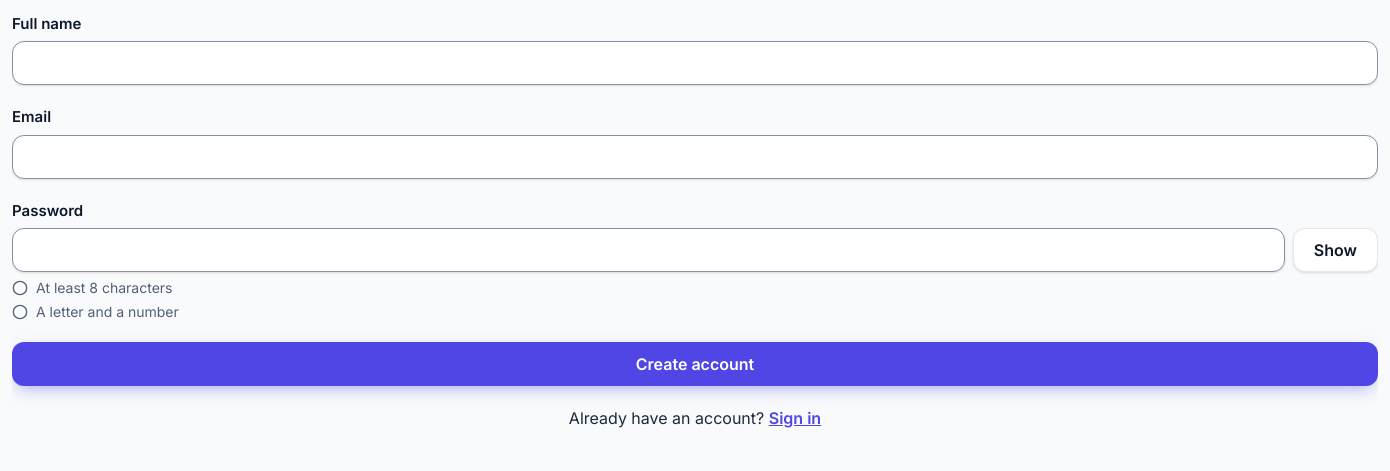
Test: SignUpForm › maps a server PASSWORD_TOO_WEAK to the password field
The width and height of the screenshot is (1390, 471).
In the field with test id "signup-fullname-input": (695, 63) [12,41,1378,85], type "Maya"
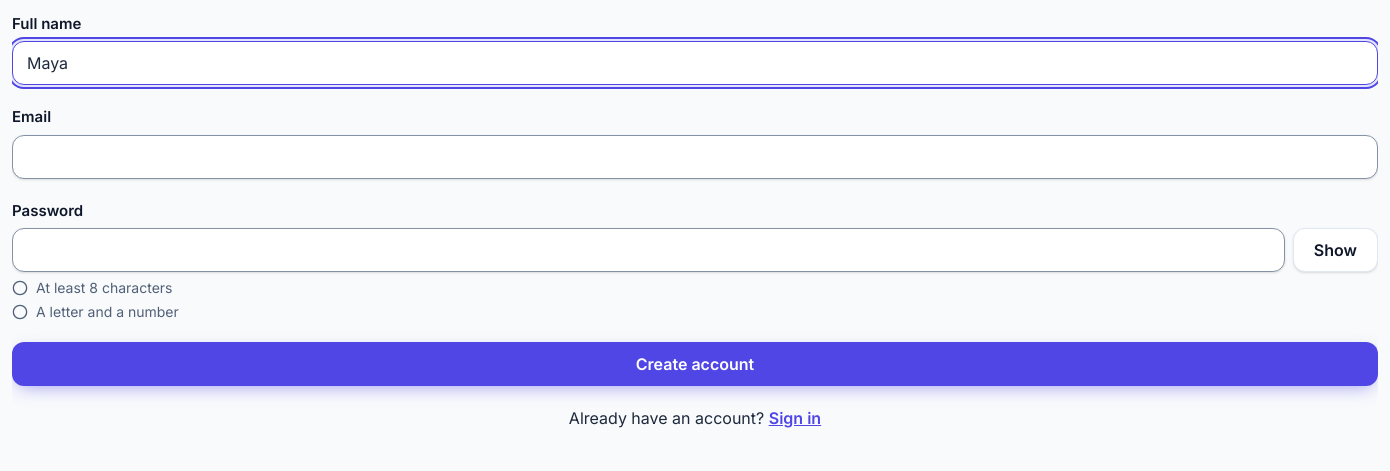
In the field with test id "signup-email-input": (695, 156) [12,134,1378,178], type "maya@example.test"
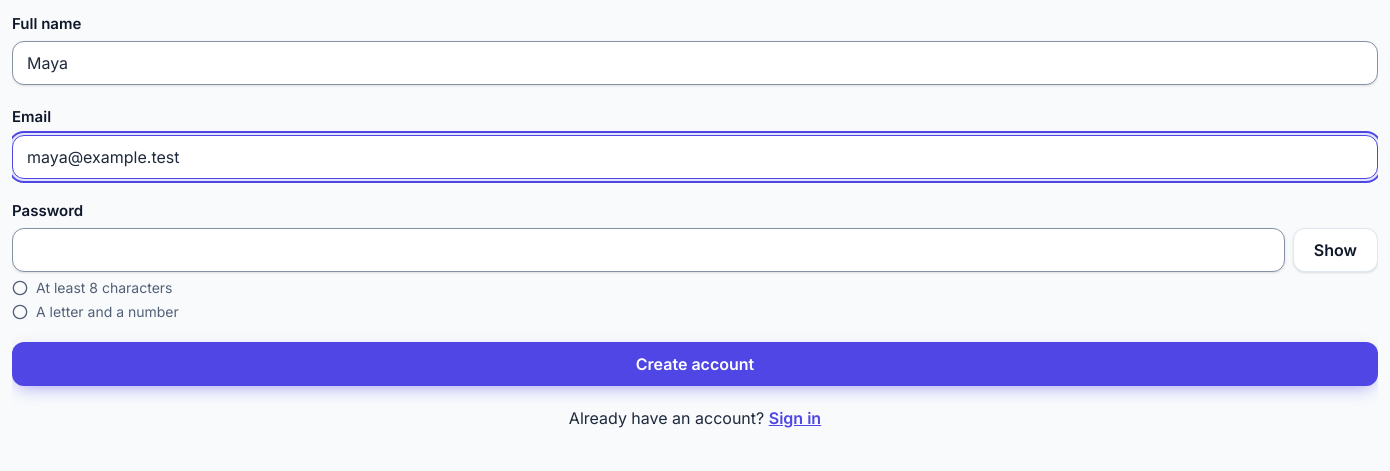
In the password field with test id "signup-password-input": (648, 250) [12,228,1285,272], type "Password1"
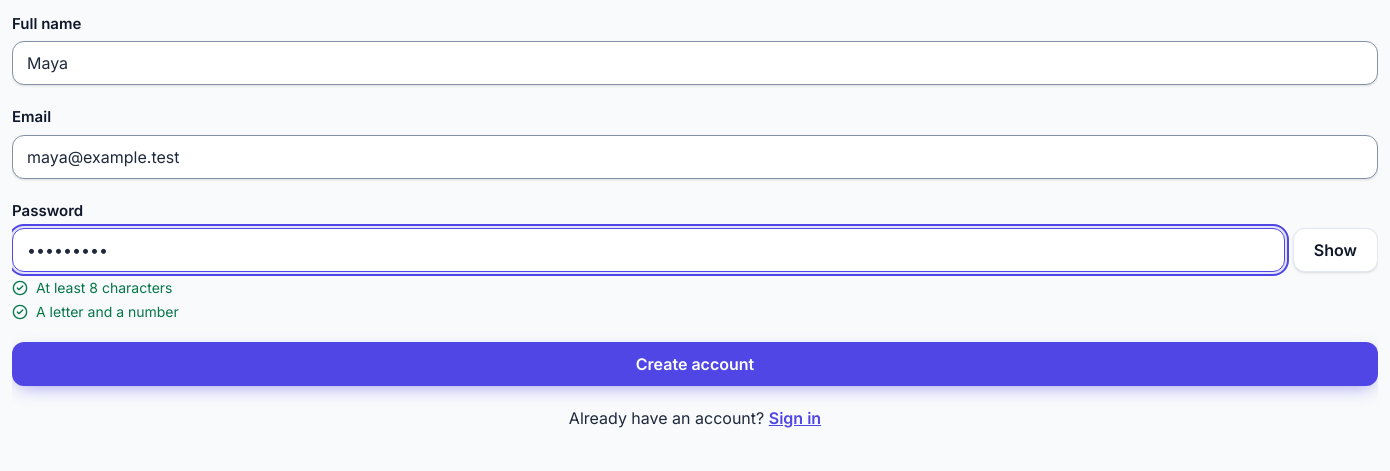
Click the button with test id "signup-submit-button": (695, 364) [12,342,1378,386]
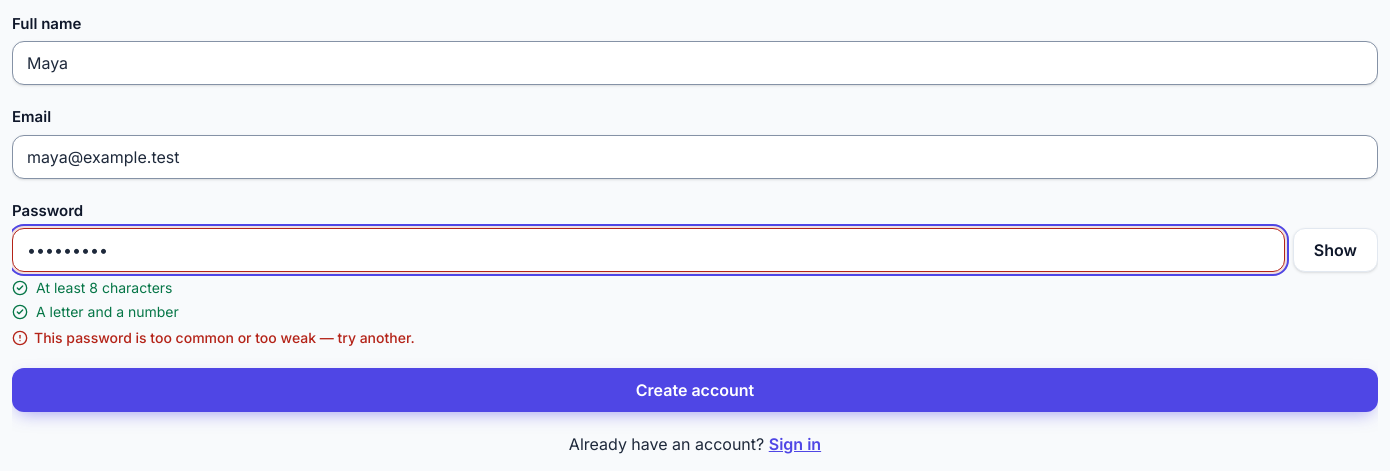
Expected: the element with test id "password-error" shows "too common", [34,329,415,346]
